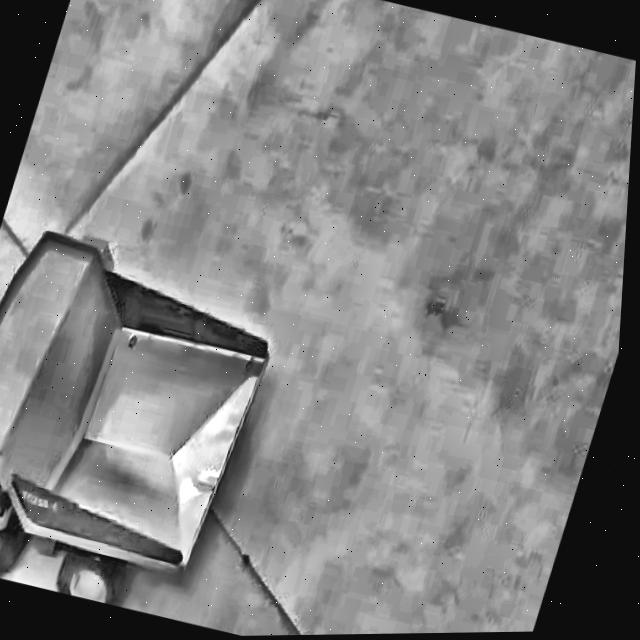dump_truck: (0, 159, 331, 630)
